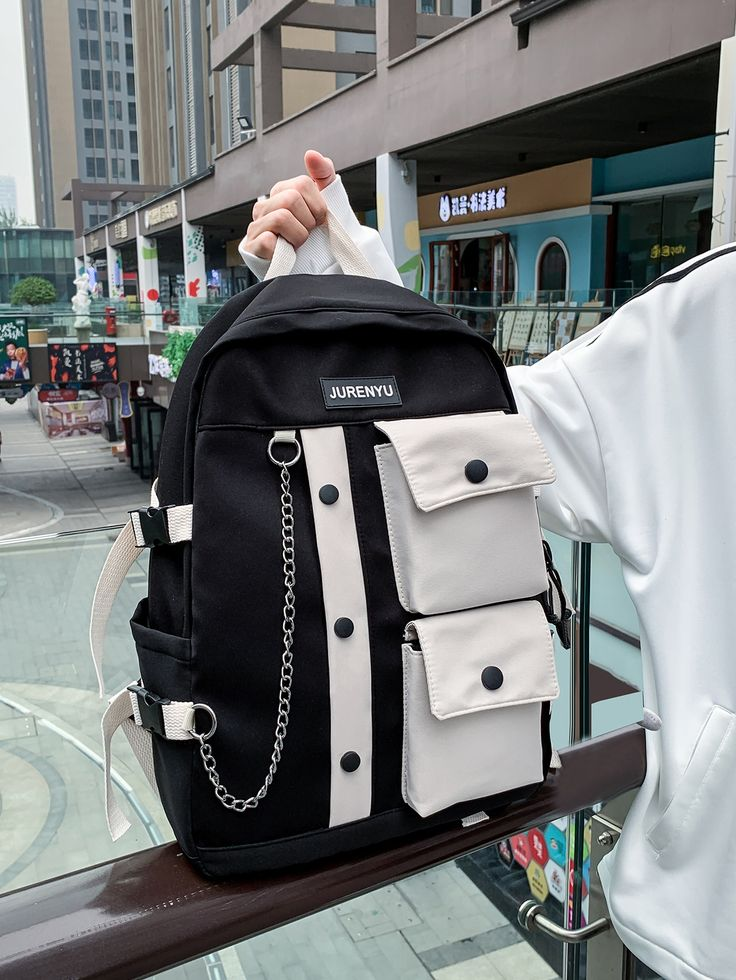nylon: (134, 273, 555, 887)
